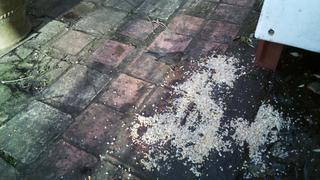blackbird: (145, 51, 186, 74)
